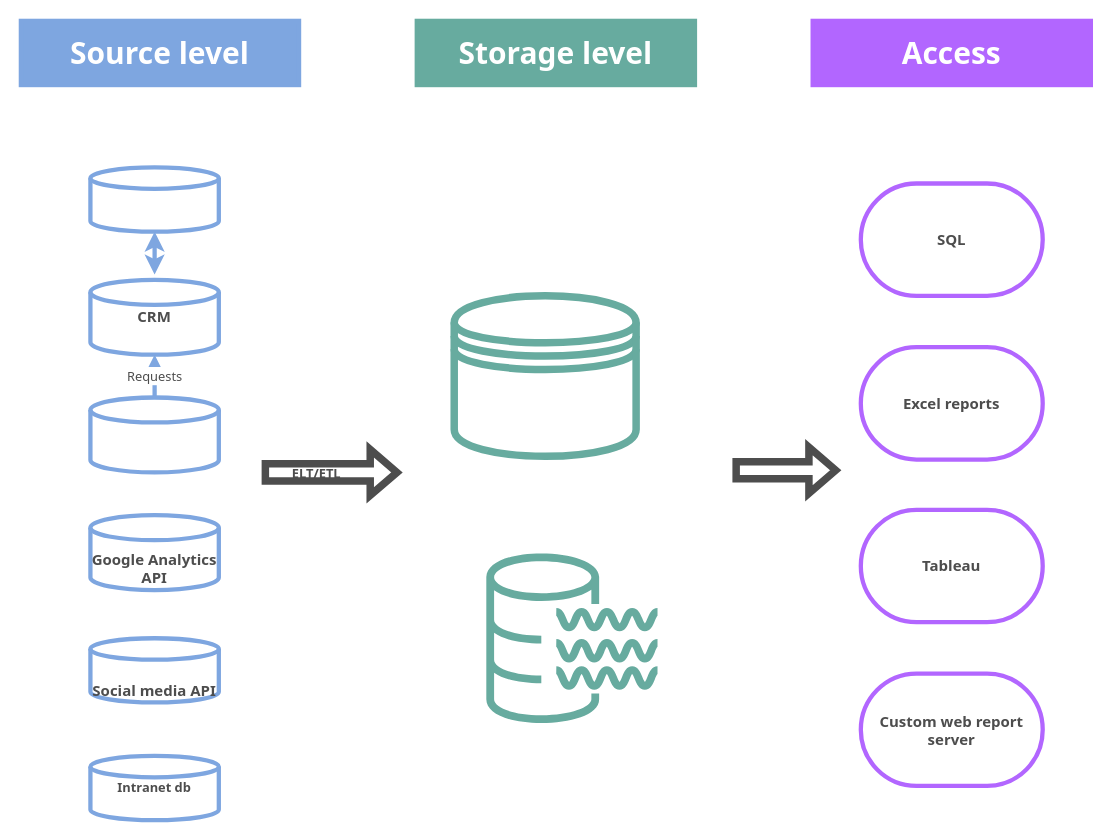
Image size: 1111x840. Some labels were removed from this diagram. The box of each missing label's shape, as (x1, y1, x2, y2) in pixels:
Data lake: (486, 552, 657, 723)
Data warehouse: (450, 292, 639, 460)
Finance db: (88, 165, 220, 233)
Website db: (88, 395, 220, 474)
